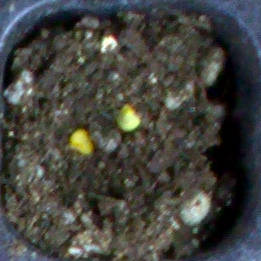chilli seed: (119, 104, 141, 131), (70, 129, 92, 155)
